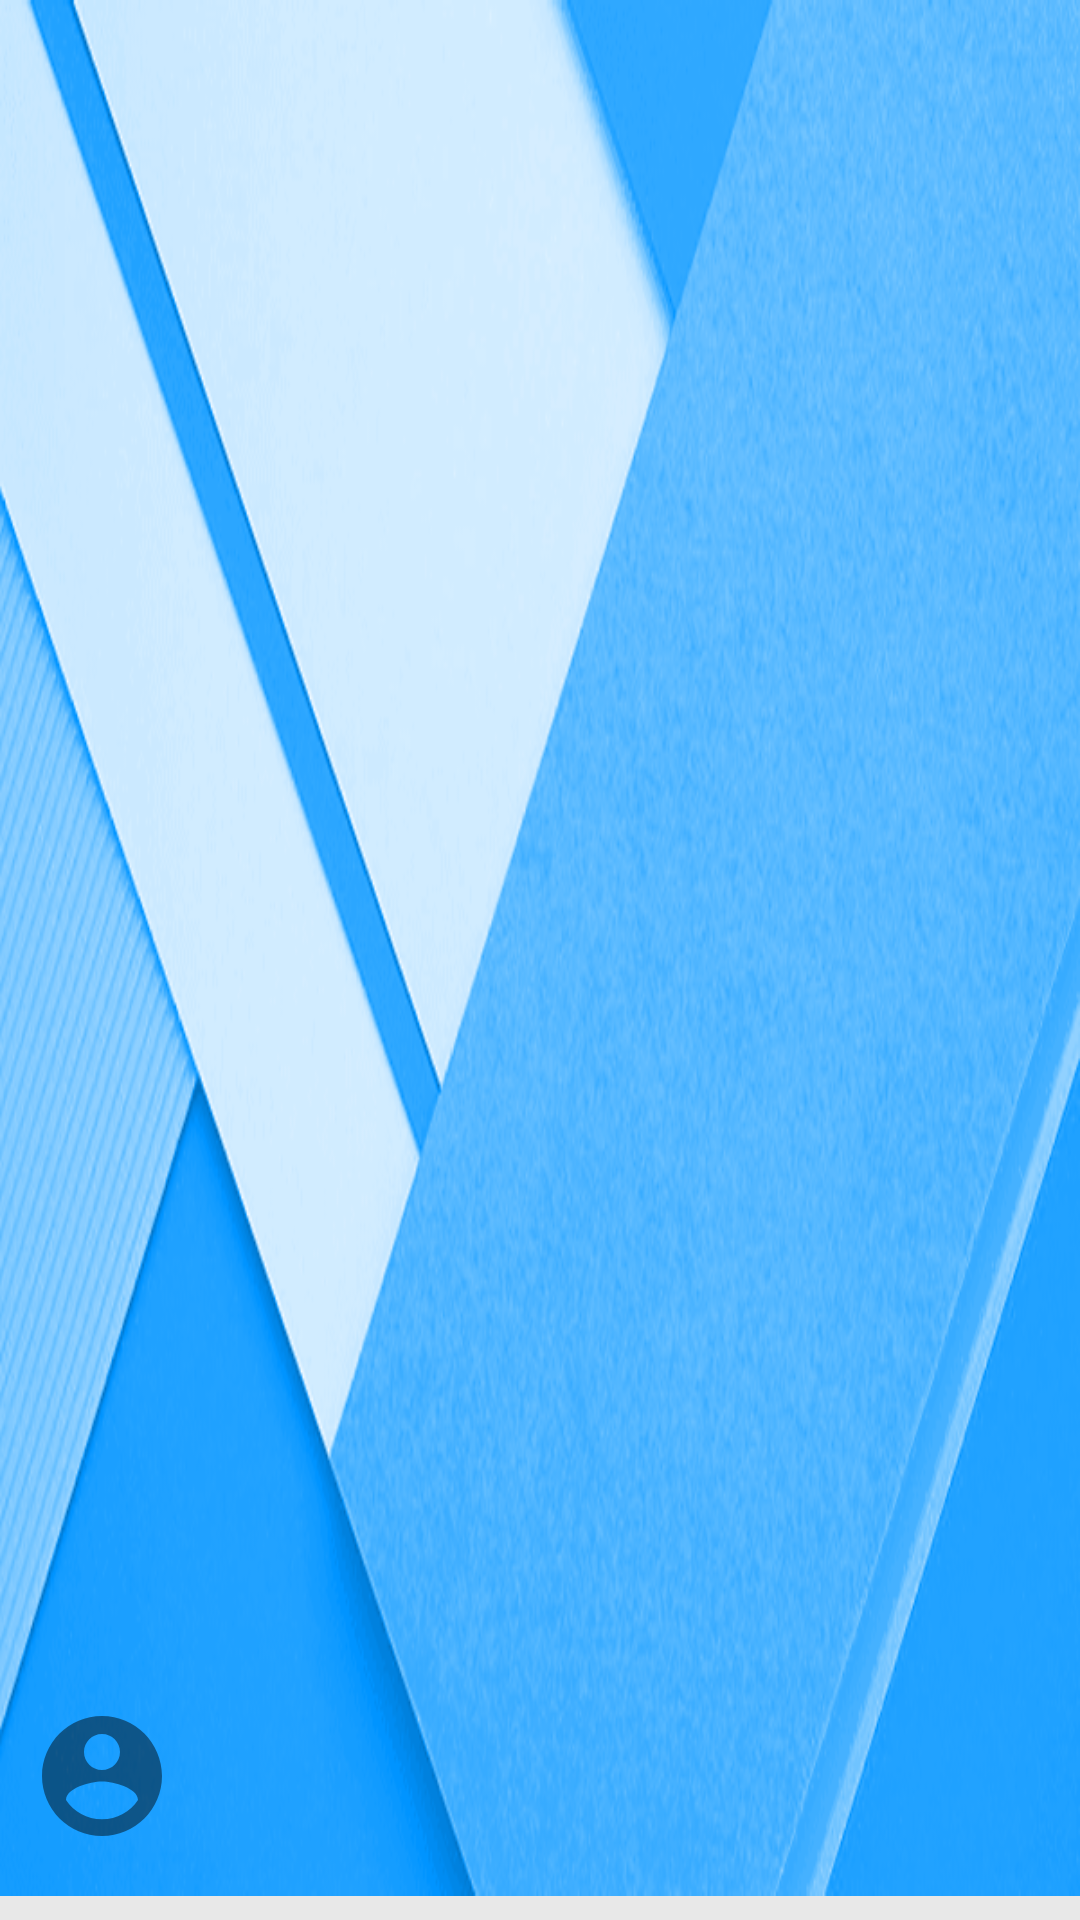

Locate icon controls on the screen. Image size 1080px x 1920px, boxes as [x1,y1,x2,y2].
account circle: [42,1716,162,1836]
